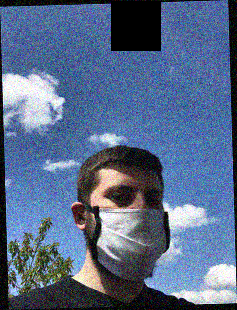with_mask: (92, 177, 171, 282)
